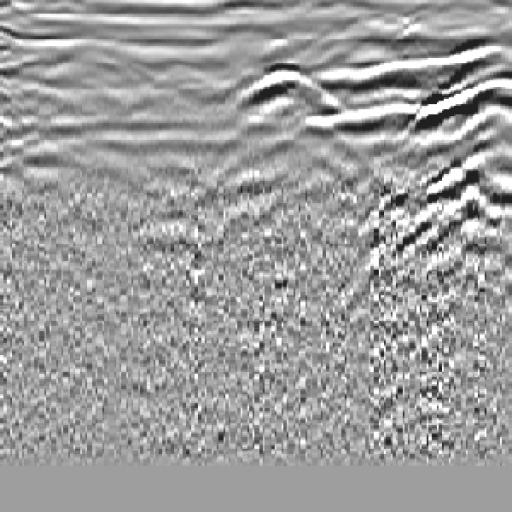metalic: (220, 56, 349, 122)
